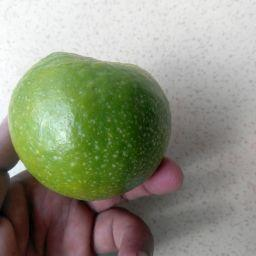Unripe: (8, 54, 172, 201)
